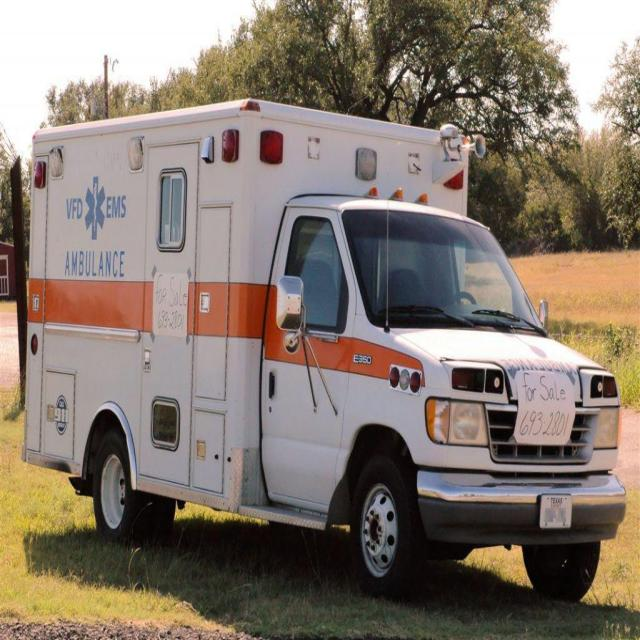Ambulance: (21, 98, 631, 603)
